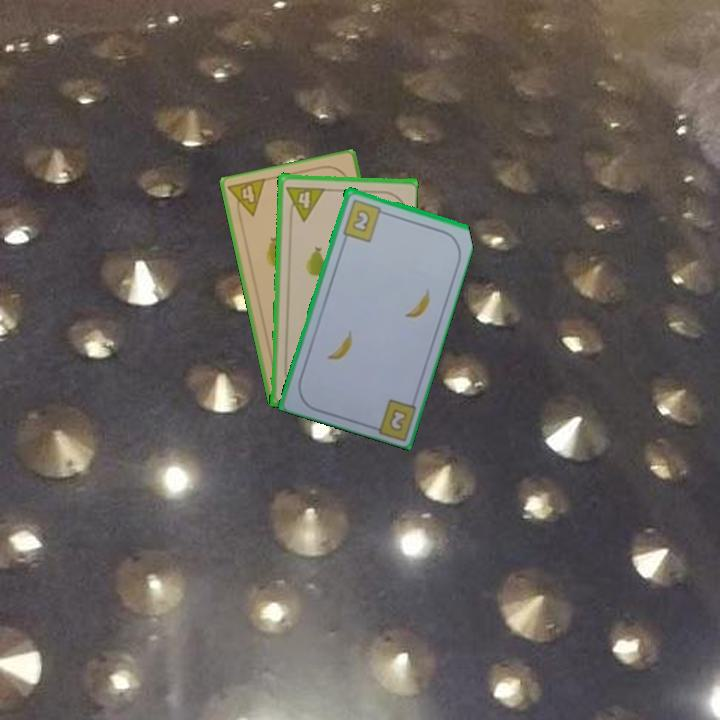2b: (339, 195, 389, 244), (385, 405, 410, 435)
4p: (224, 175, 269, 223), (282, 182, 326, 223)
